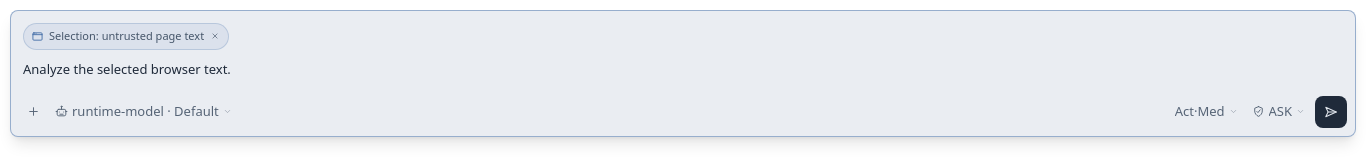
Test case: ChatInput composer › shows removable Agent context chips without sending automatically
Expected: the text "Selection: untrusted page text" is shown, [49, 28, 204, 44]
What coordinates should you click on to do the following:
click the button named "Remove Selection: untrusted page text"
I would click on:
 (215, 36)
Its box is [210, 31, 220, 41].
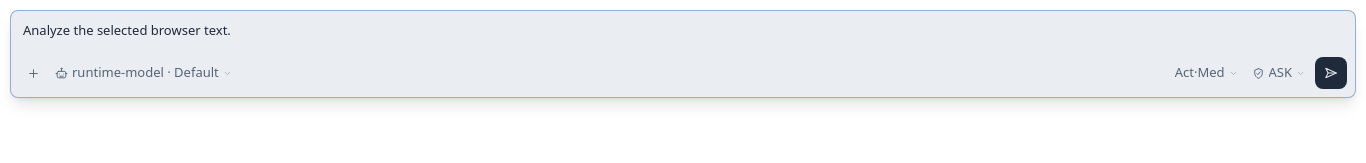
Result: the text "Selection: untrusted page text" is gone
